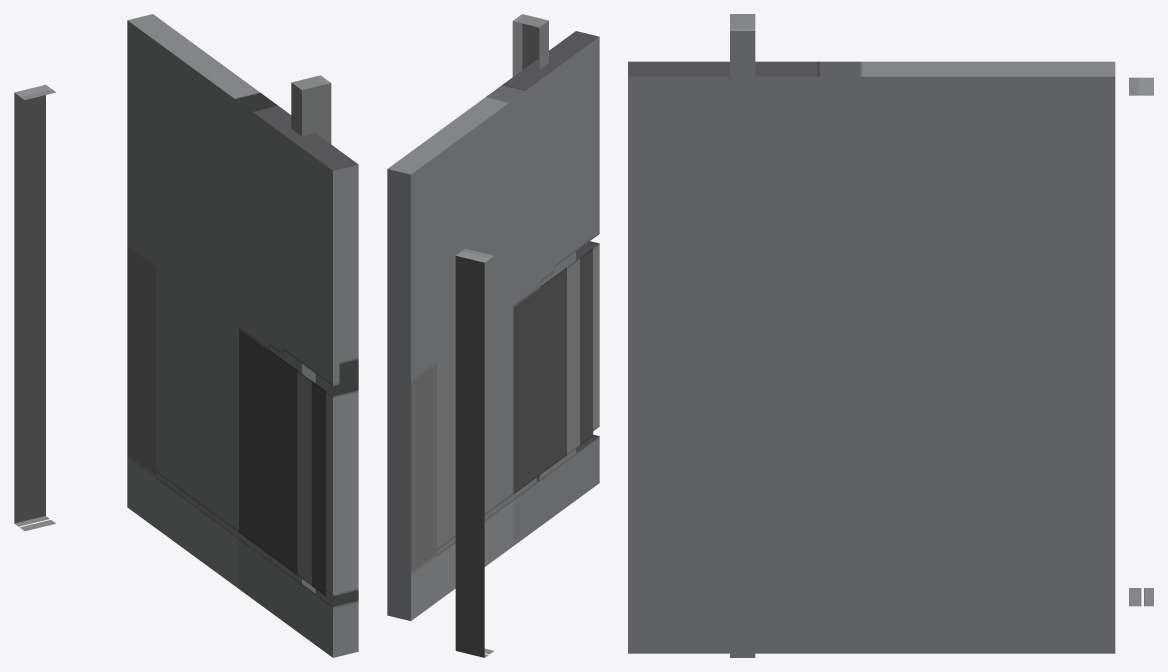
3 views of the same model, side by side, from view 1: azimuth 30°, elevation 25°; view 2: azimuth 150°, elevation 25°; view 3: azimuth 270°, elevation 25° (orthographic). The views are drawn at different scales.
Bounding box in the file's own units: 0.1732 × 0.6449 × 0.4826.
